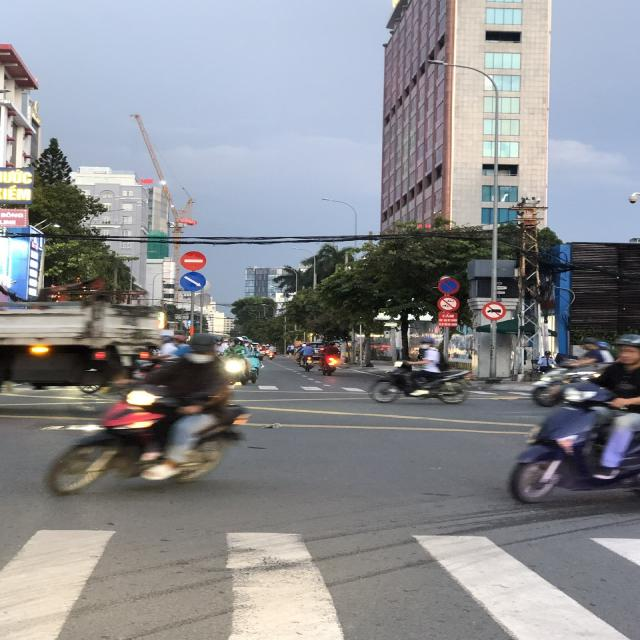Bien bao cam di nguoc chieu: (179, 249, 208, 271)
Bien bao cam do xe: (436, 276, 463, 295)
Bien bao cam xe so-mi ro-mooc: (481, 301, 507, 320)
Bien bao huong phai di vong chuong ngai vat: (179, 271, 208, 292)
